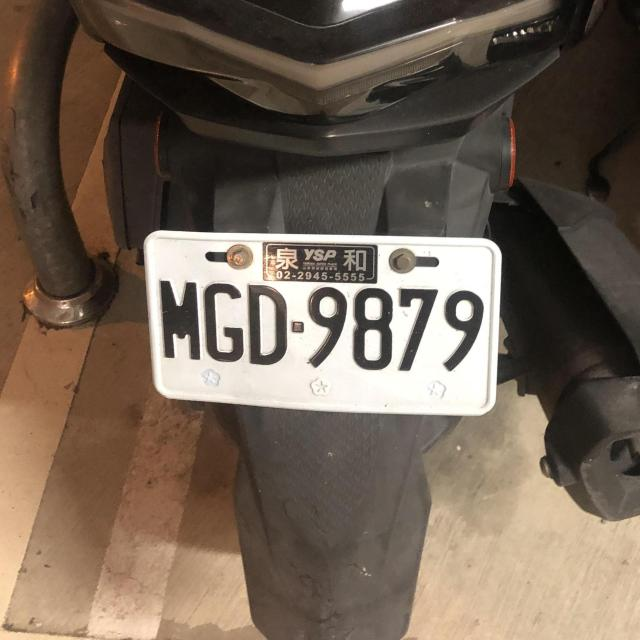W: (137, 228, 503, 420)
